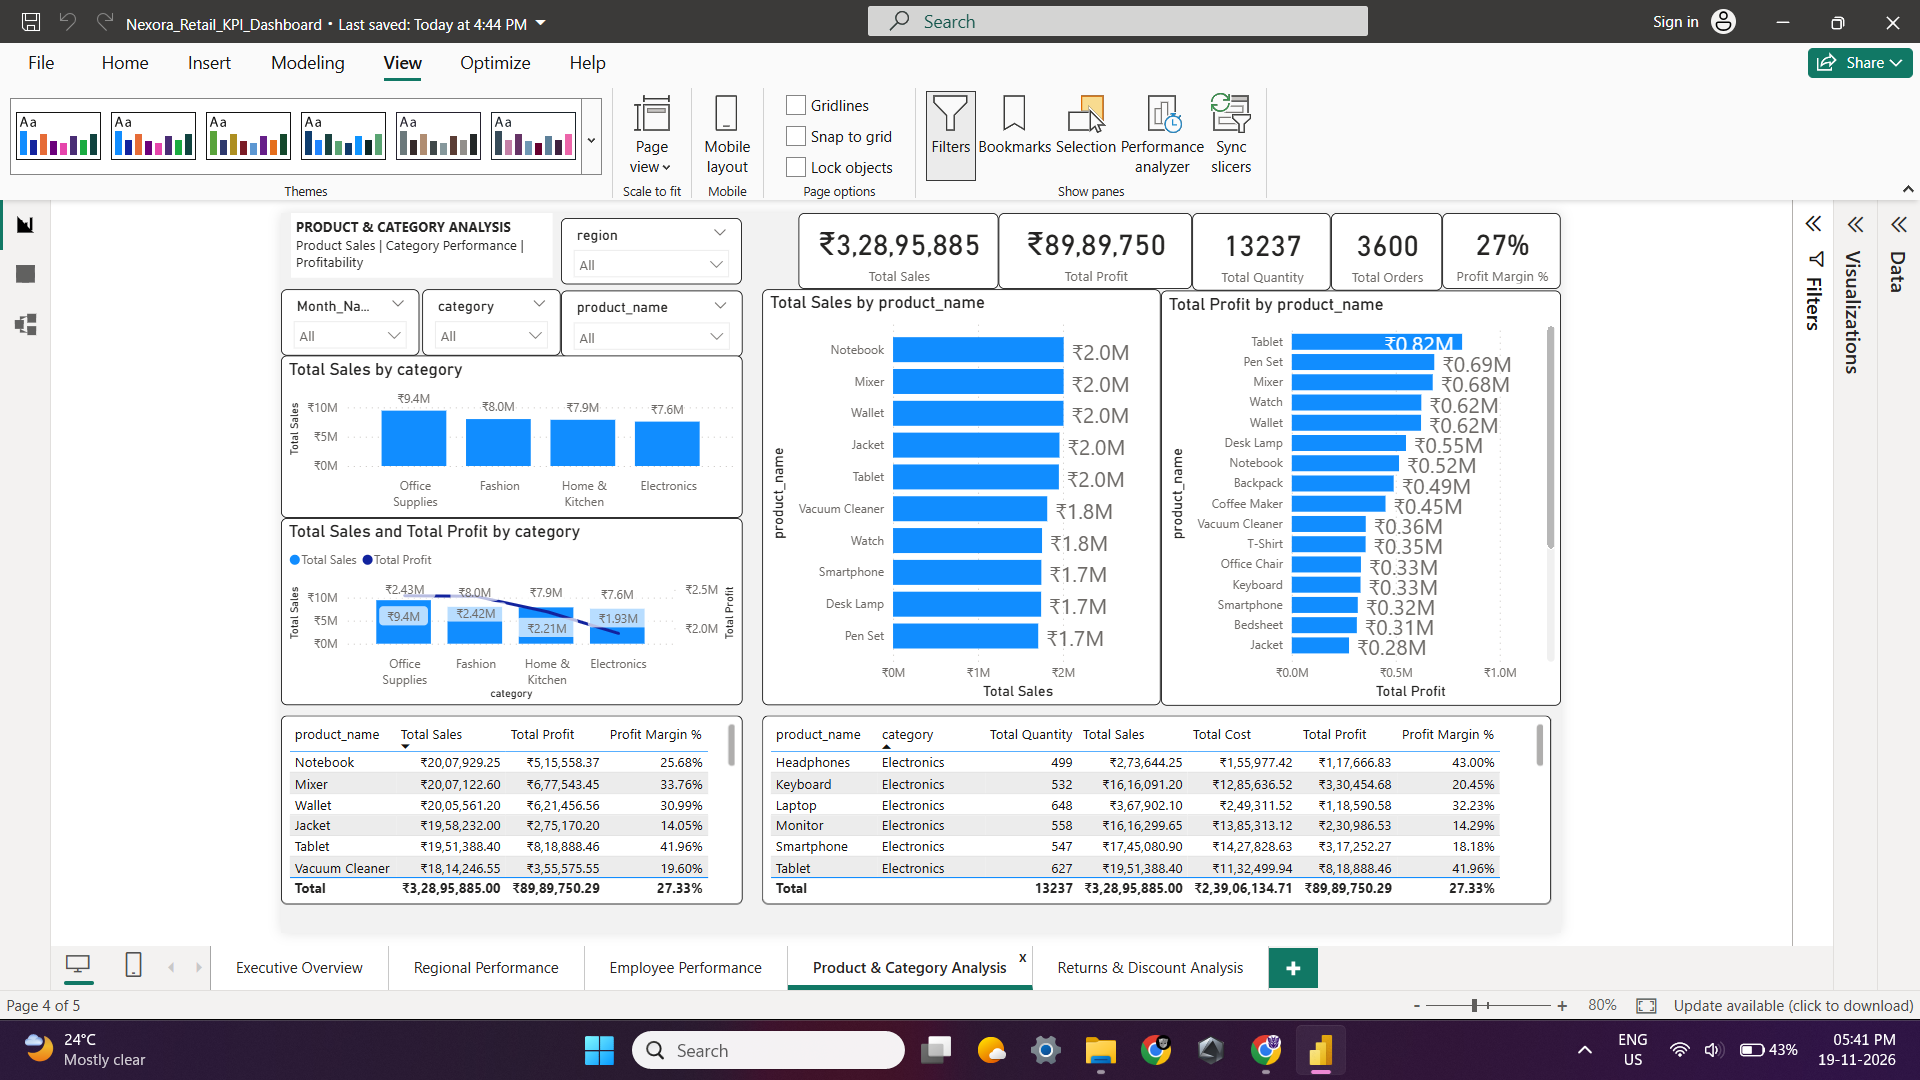

This screenshot's page, from the dashboard's own definition file:
{"tool":"powerbi","page":{"name":"Product & Category Analysis","canvas":[1280,720],"ordinal":3},"visuals":[{"type":"textbox","box":[10,0,261.2,65],"z":0},{"type":"card","fields":{"Values":["Sales_Transactions.Total Sales"]},"box":[517.5,0,200,76.2],"z":1000},{"type":"card","fields":{"Values":["Sales_Transactions.Total Orders"]},"box":[1050,0,111.2,77.5],"z":2000},{"type":"card","fields":{"Values":["Sales_Transactions.Total Quantity"]},"box":[911.2,0,138.8,77.5],"z":3000},{"type":"card","fields":{"Values":["Sales_Transactions.Total Profit"]},"box":[717.5,0,193.8,76.2],"z":4000},{"type":"card","fields":{"Values":["Sales_Transactions.Profit Margin %"]},"box":[1161.2,0,118.8,76.2],"z":5000},{"type":"slicer","fields":{"Values":["Calendar.Month_Name"]},"box":[0,76.2,138.8,66.2],"z":6000},{"type":"slicer","fields":{"Values":["Products.category"]},"box":[141.2,76.2,138.8,66.2],"z":7000},{"type":"slicer","fields":{"Values":["Products.product_name"]},"box":[280,77.5,181.2,66.2],"z":8000},{"type":"clusteredColumnChart","fields":{"Category":["Products.category"],"Y":["Sales_Transactions.Total Sales"]},"box":[0,142.5,461.2,162.5],"z":9000},{"type":"clusteredBarChart","fields":{"Category":["Products.product_name"],"Y":["Sales_Transactions.Total Profit"]},"box":[880,77.5,400,415],"z":10000},{"type":"clusteredBarChart","fields":{"Category":["Products.product_name"],"Y":["Sales_Transactions.Total Sales"]},"box":[481.2,76.2,398.8,416.2],"z":11000},{"type":"lineClusteredColumnComboChart","fields":{"Category":["Products.category"],"Y":["Sales_Transactions.Total Sales"],"Y2":["Sales_Transactions.Total Profit"]},"box":[0,305,461.2,187.5],"z":12000},{"type":"tableEx","fields":{"Values":["Products.product_name","Sales_Transactions.Total Sales","Sales_Transactions.Total Profit","Sales_Transactions.Profit Margin %"]},"box":[0,502.5,461.2,188.8],"z":13000},{"type":"tableEx","fields":{"Values":["Products.product_name","Products.category","Sales_Transactions.Total Quantity","Sales_Transactions.Total Sales","Sales_Transactions.Total Cost","Sales_Transactions.Total Profit","Sales_Transactions.Profit Margin %"]},"box":[481.2,502.5,788.8,188.8],"z":14000},{"type":"slicer","fields":{"Values":["Sales_Transactions.region"]},"box":[279.8,4.8,180.9,66.3],"z":14001}]}

Visuals, with their boxes on the page's 1280x720 design canvas (x1, y1, x2, y2). These are canvas units, not pixel positions in the 1920x1080 screenshot, which may show the page scaled, cropped or inside an application window:
textbox: [x1=10, y1=0, x2=271, y2=65]
card - Sales_Transactions.Total Sales: [x1=518, y1=0, x2=718, y2=76]
card - Sales_Transactions.Total Orders: [x1=1050, y1=0, x2=1161, y2=78]
card - Sales_Transactions.Total Quantity: [x1=911, y1=0, x2=1050, y2=78]
card - Sales_Transactions.Total Profit: [x1=718, y1=0, x2=911, y2=76]
card - Sales_Transactions.Profit Margin %: [x1=1161, y1=0, x2=1280, y2=76]
slicer - Calendar.Month_Name: [x1=0, y1=76, x2=139, y2=142]
slicer - Products.category: [x1=141, y1=76, x2=280, y2=142]
slicer - Products.product_name: [x1=280, y1=78, x2=461, y2=144]
clusteredColumnChart - Products.category x Sales_Transactions.Total Sales: [x1=0, y1=142, x2=461, y2=305]
clusteredBarChart - Products.product_name x Sales_Transactions.Total Profit: [x1=880, y1=78, x2=1280, y2=492]
clusteredBarChart - Products.product_name x Sales_Transactions.Total Sales: [x1=481, y1=76, x2=880, y2=492]
lineClusteredColumnComboChart - Products.category x Sales_Transactions.Total Sales: [x1=0, y1=305, x2=461, y2=492]
tableEx - Products.product_name x Sales_Transactions.Total Sales: [x1=0, y1=502, x2=461, y2=691]
tableEx - Products.product_name x Products.category: [x1=481, y1=502, x2=1270, y2=691]
slicer - Sales_Transactions.region: [x1=280, y1=5, x2=461, y2=71]
